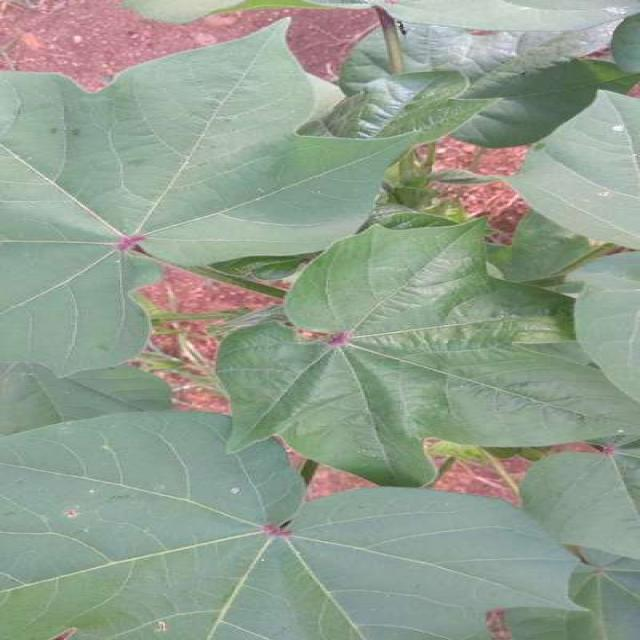Healthy Leaf: (5, 12, 640, 640)
